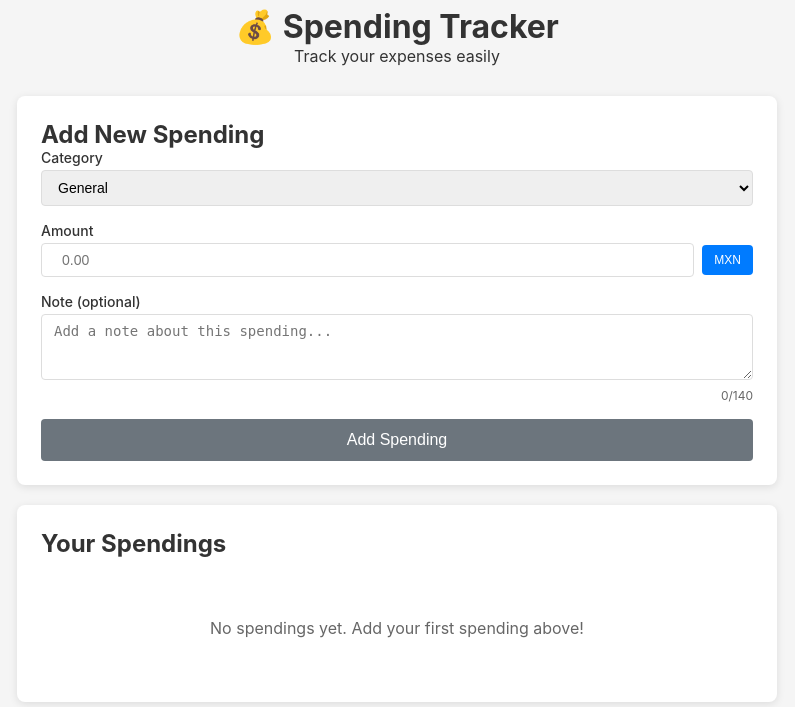
Flaky Test Example › Race Condition Test › should handle async state updates properly
Step 1. Type "25.50" into the field with test id "amount-input" showing "Amount" → (368, 260), box [41,243,694,277]
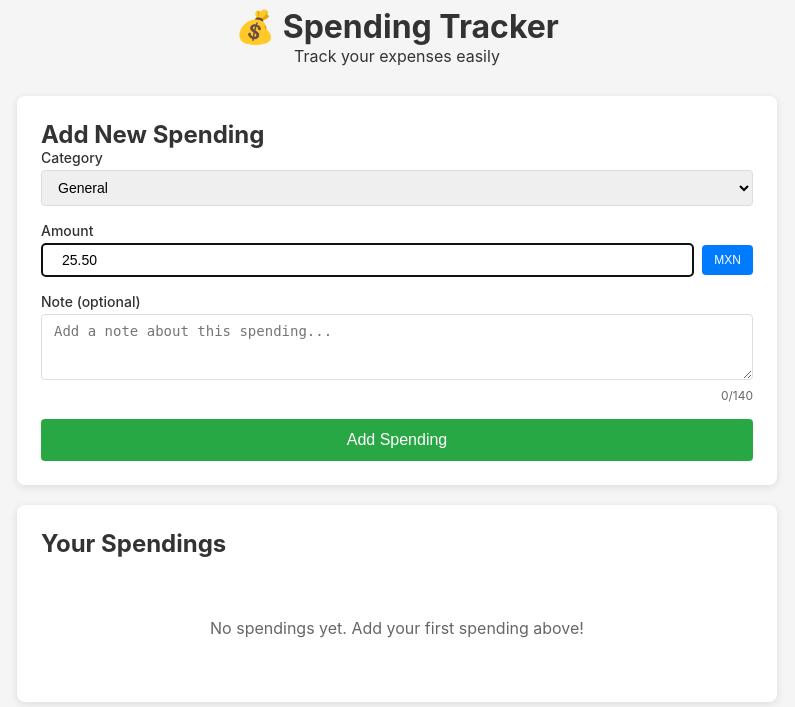
Note: Click without waiting for the state update to complete
Step 2. Click the button with test id "add-spending-btn" → (397, 440), box [41,419,753,461]
(page scrolled)
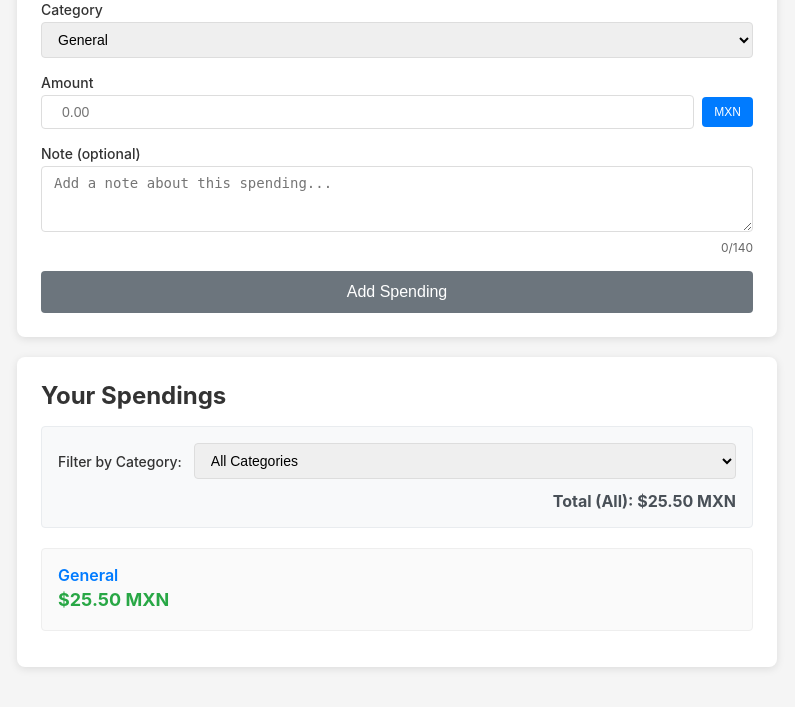
expect the element with test id "spending-item" is shown: met, box [41,548,753,631]
